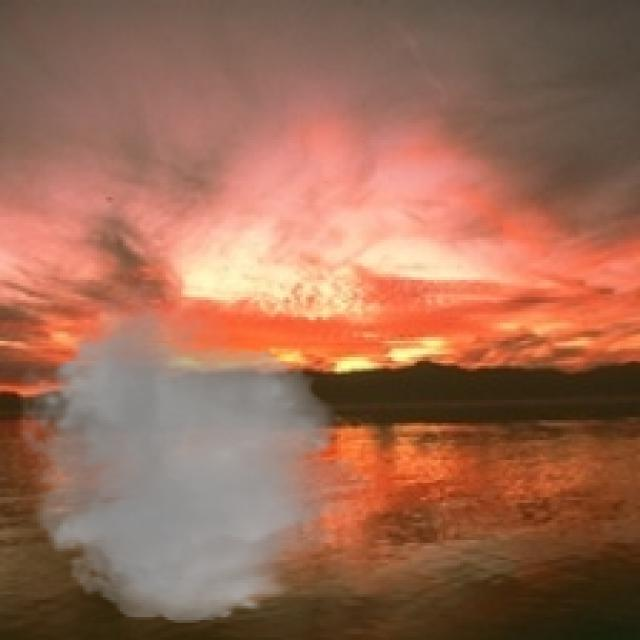Smoke: (3, 279, 383, 632)
